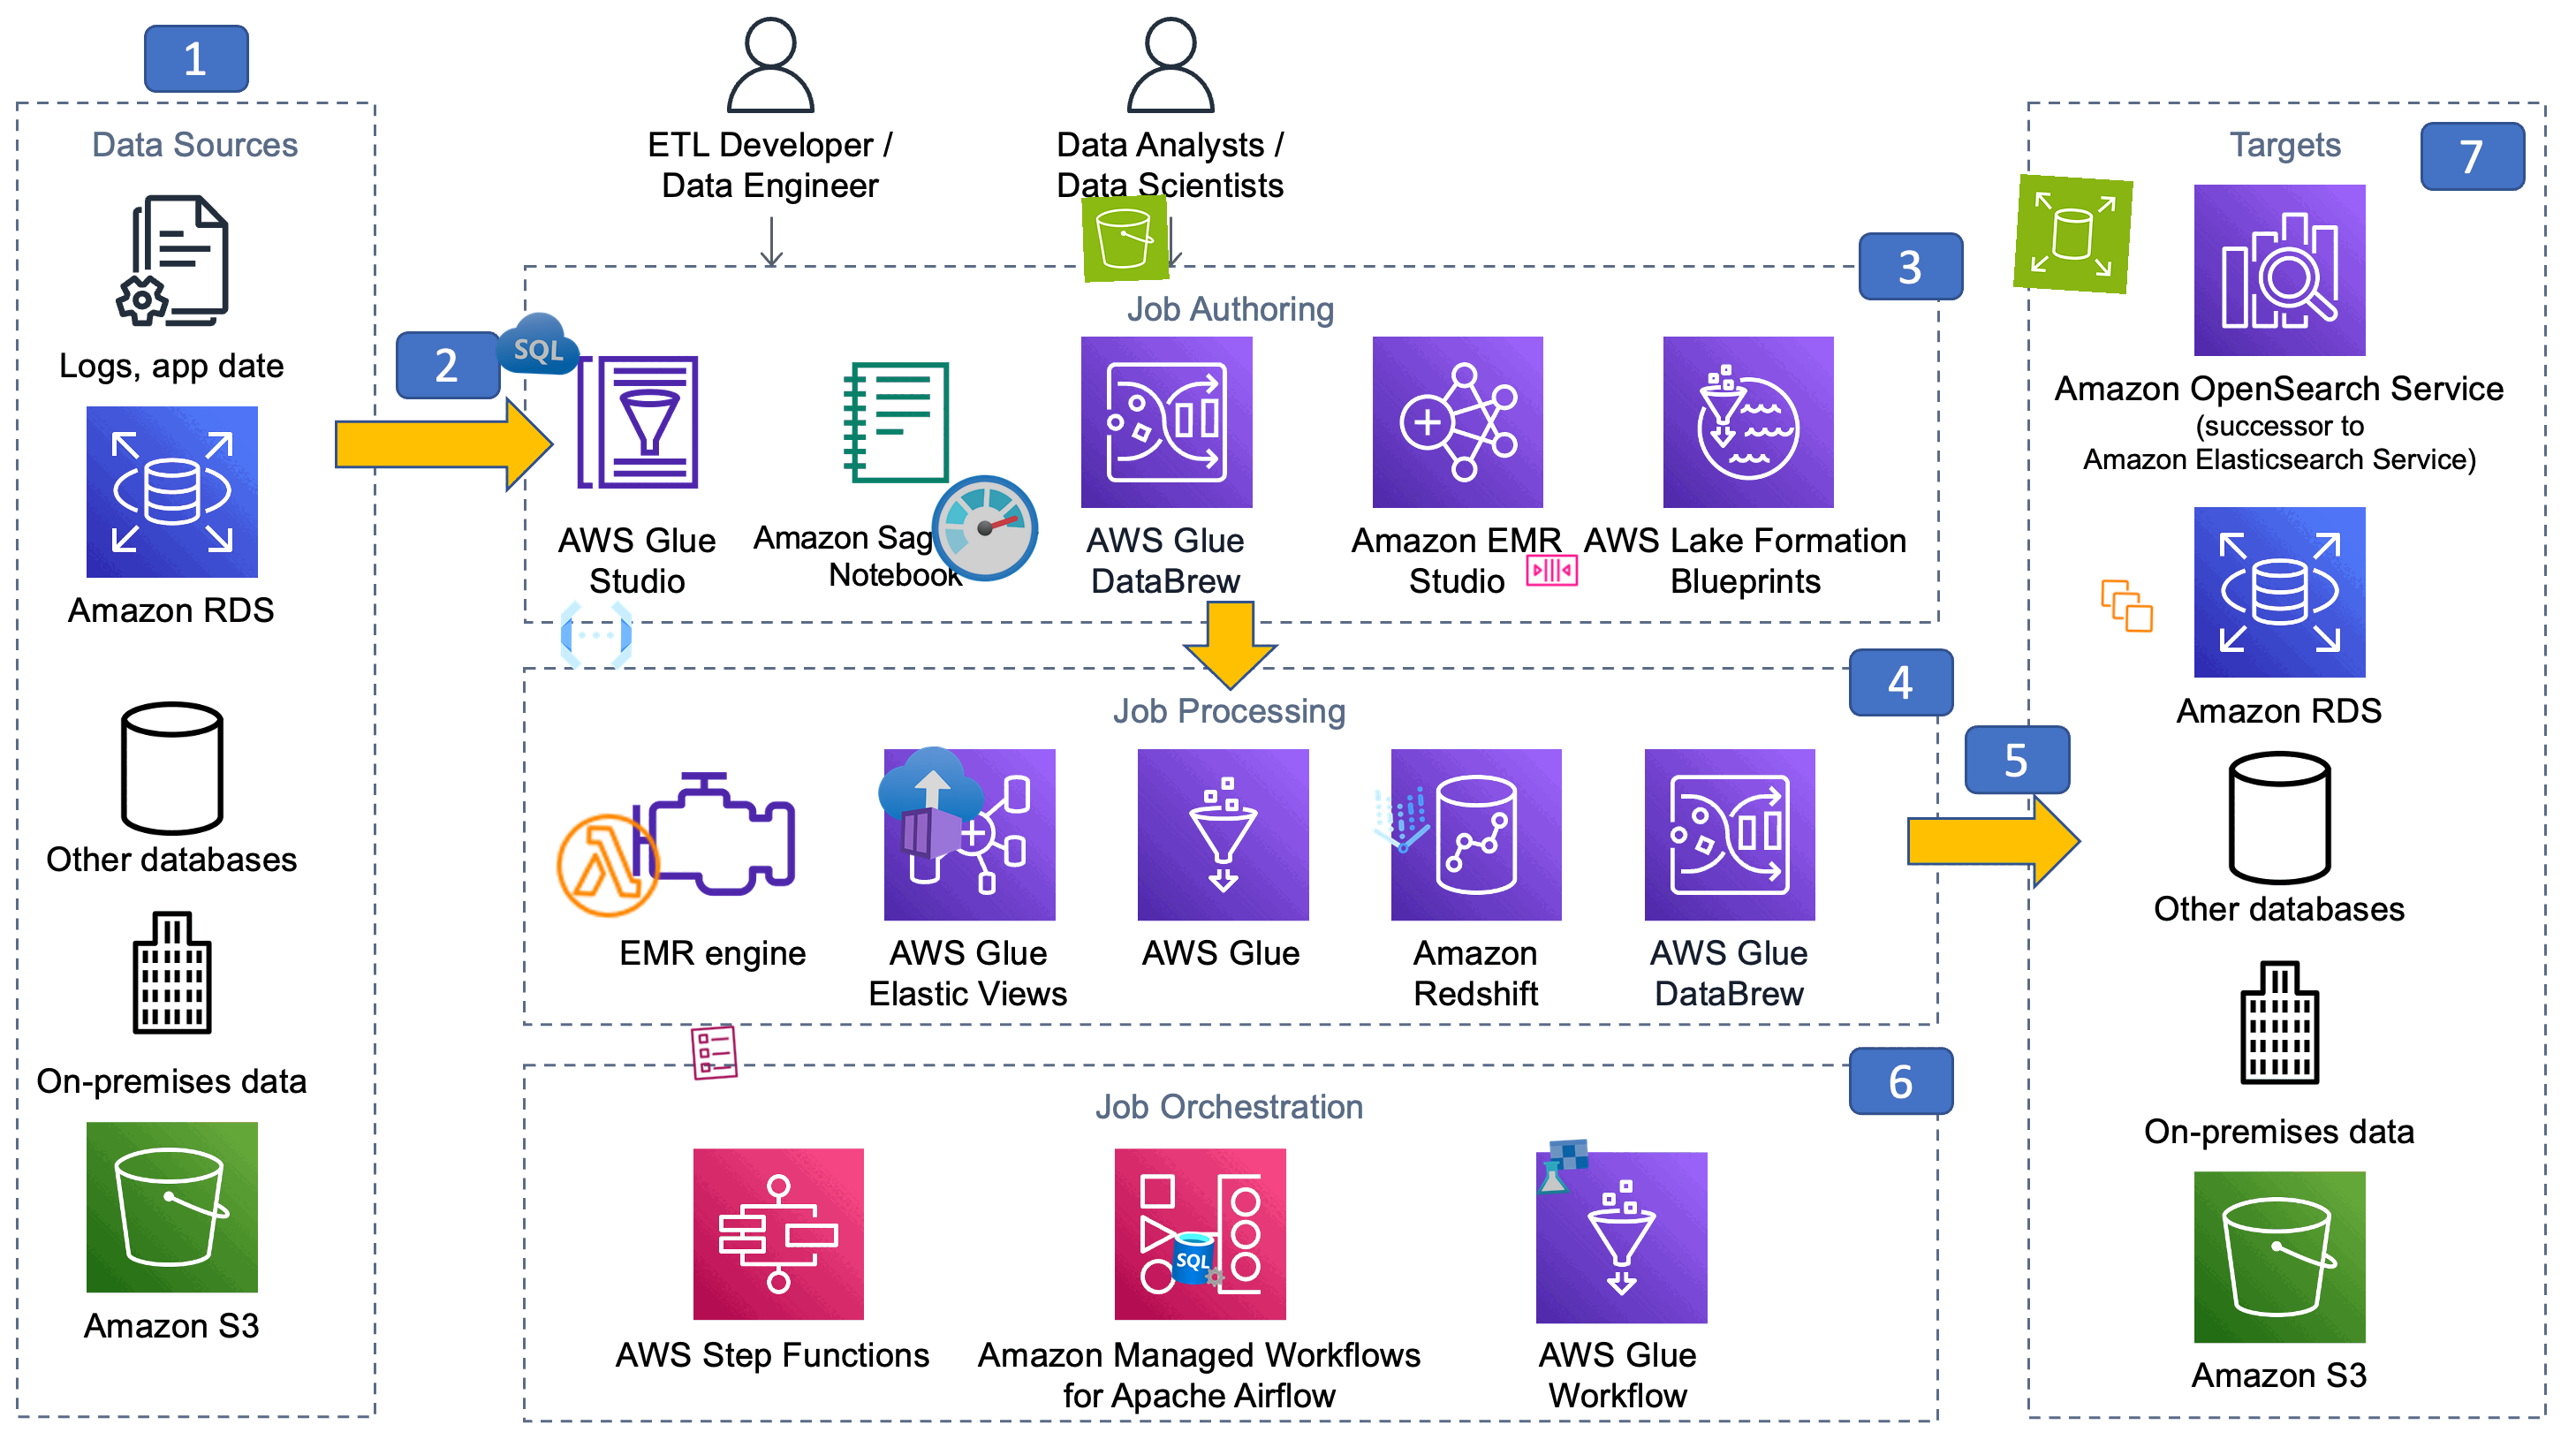aws_amazon_elastic_block_store: (2013, 173, 2134, 294)
aws_amazon_simple_storage_service: (1081, 195, 1169, 283)
aws_cloudformation_template: (683, 1023, 745, 1084)
aws_ec2_instances: (2098, 577, 2157, 635)
aws_lambda_lambda_function: (550, 807, 667, 925)
aws_simple_queue_service_queue: (1523, 541, 1582, 600)
azure_container_instances: (872, 745, 989, 862)
azure_machine_learning_studio_workspaces: (1532, 1137, 1592, 1198)
azure_monitor: (925, 469, 1046, 589)
azure_sql: (494, 299, 584, 389)
azure_sql_server: (1169, 1228, 1231, 1290)
gcp_cloud_functions: (554, 593, 640, 679)
gcp_vertex_ai: (1355, 775, 1447, 867)
